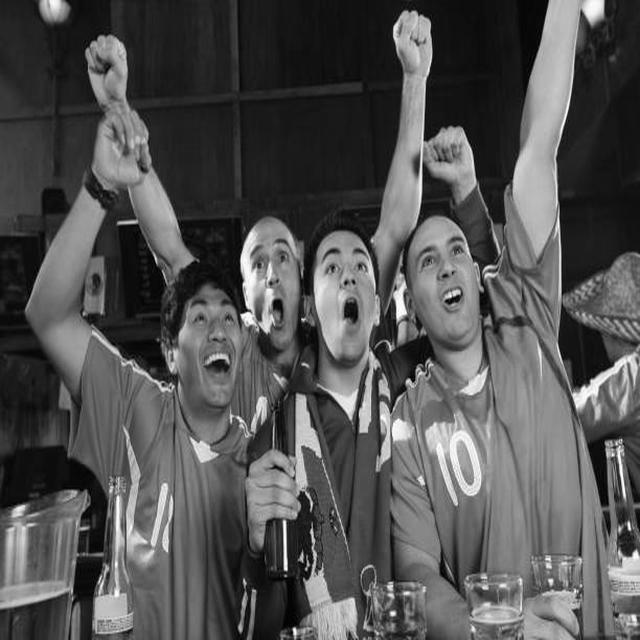Surprised: (313, 232, 376, 360), (242, 217, 299, 349)
